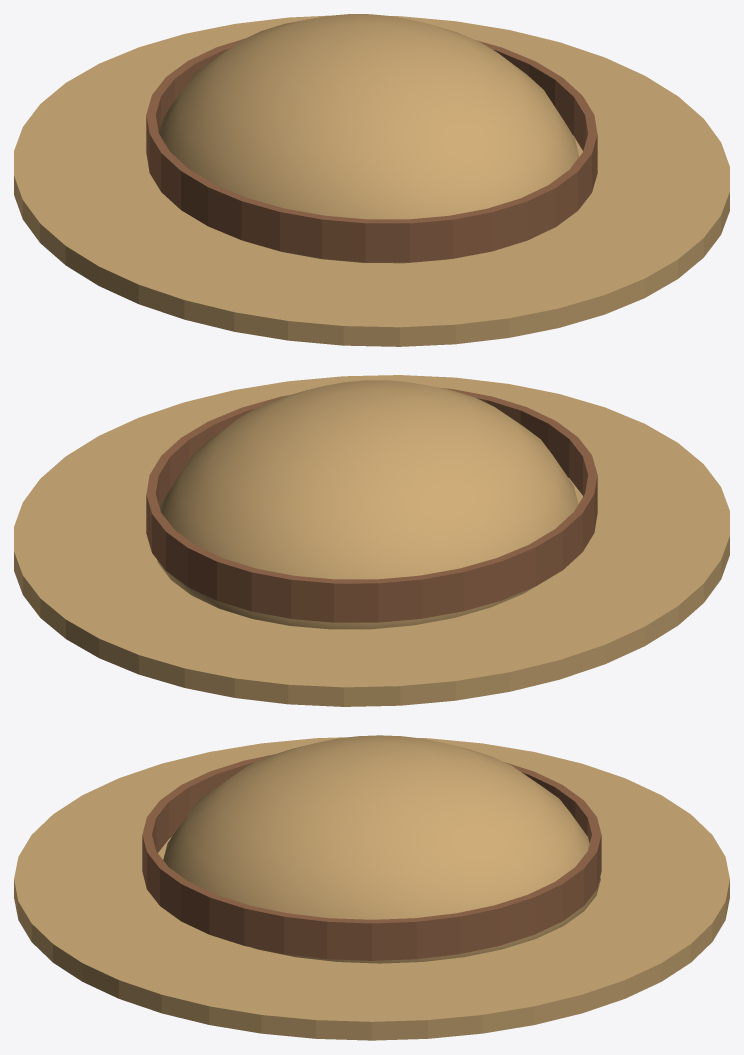
The model's file is hat_straw_wide.glb.
3 views of the same model, one above another, from view 1: azimuth 30°, elevation 25°; view 2: azimuth 150°, elevation 25°; view 3: azimuth 270°, elevation 25° (orthographic). The views are drawn at different scales.
Visible parts, largest first — view 1: hat_straw_wide; view 2: hat_straw_wide; view 3: hat_straw_wide.
Part boxes in pixels (bbox=[...]): hat_straw_wide: bbox=[14, 14, 729, 346]; hat_straw_wide: bbox=[14, 375, 729, 706]; hat_straw_wide: bbox=[14, 735, 729, 1040].
Size of the model in its own units: 0.85 by 0.191 by 0.901.
